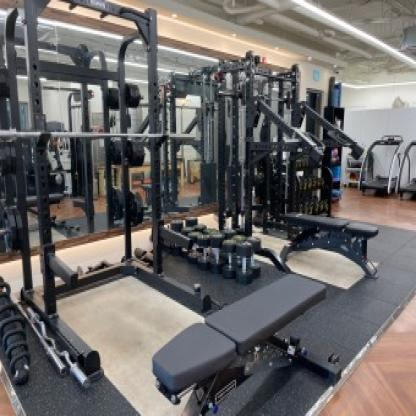smith machine: (3, 0, 172, 387), (215, 50, 301, 242)
